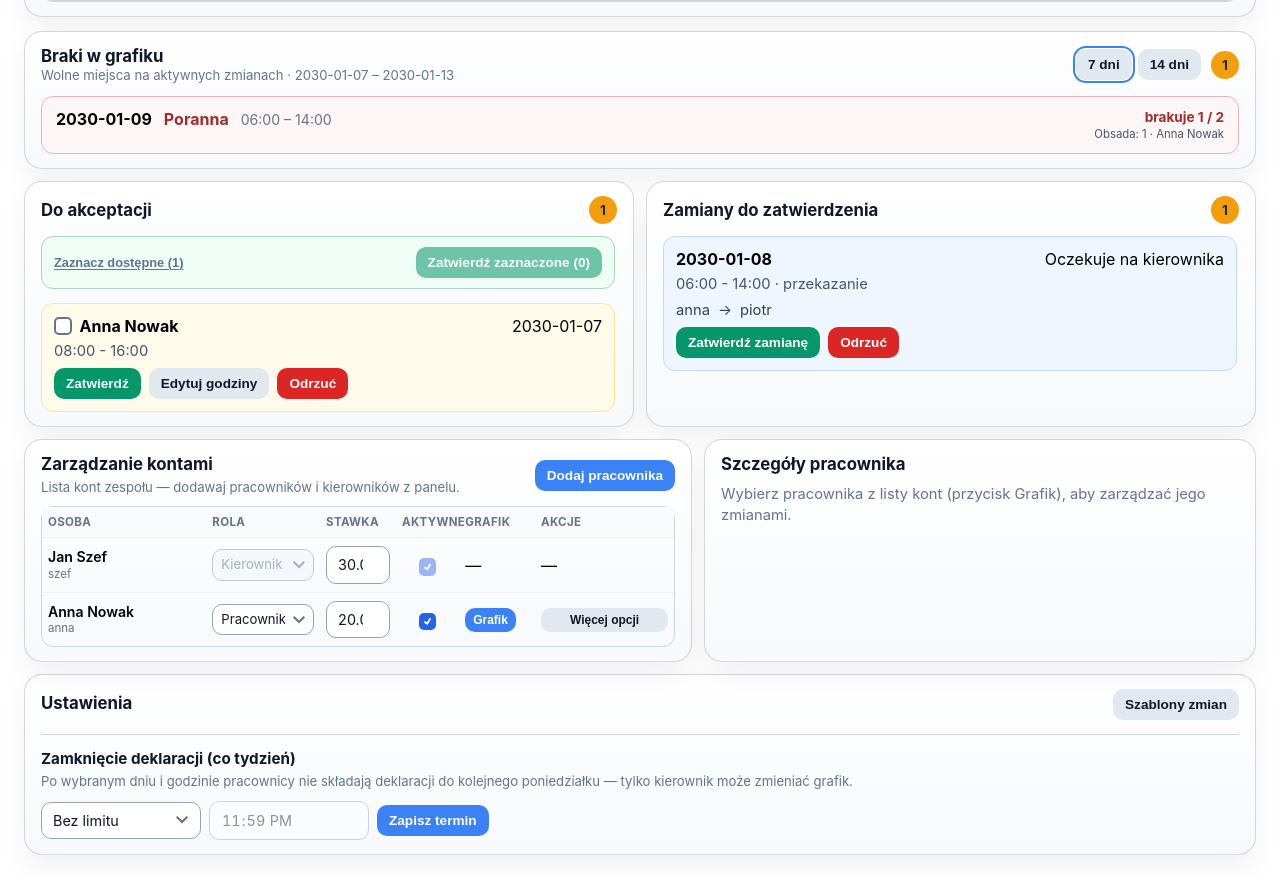
settings: deadline and shift templates › creating a shift template
(page scrolled)
Expected: the text "Anna Nowak" below "Do akceptacji" is shown, [80,316,178,336]
Click the button "Szablony zmian" at [1176, 705], box [1113,689,1239,720]
(page scrolled)
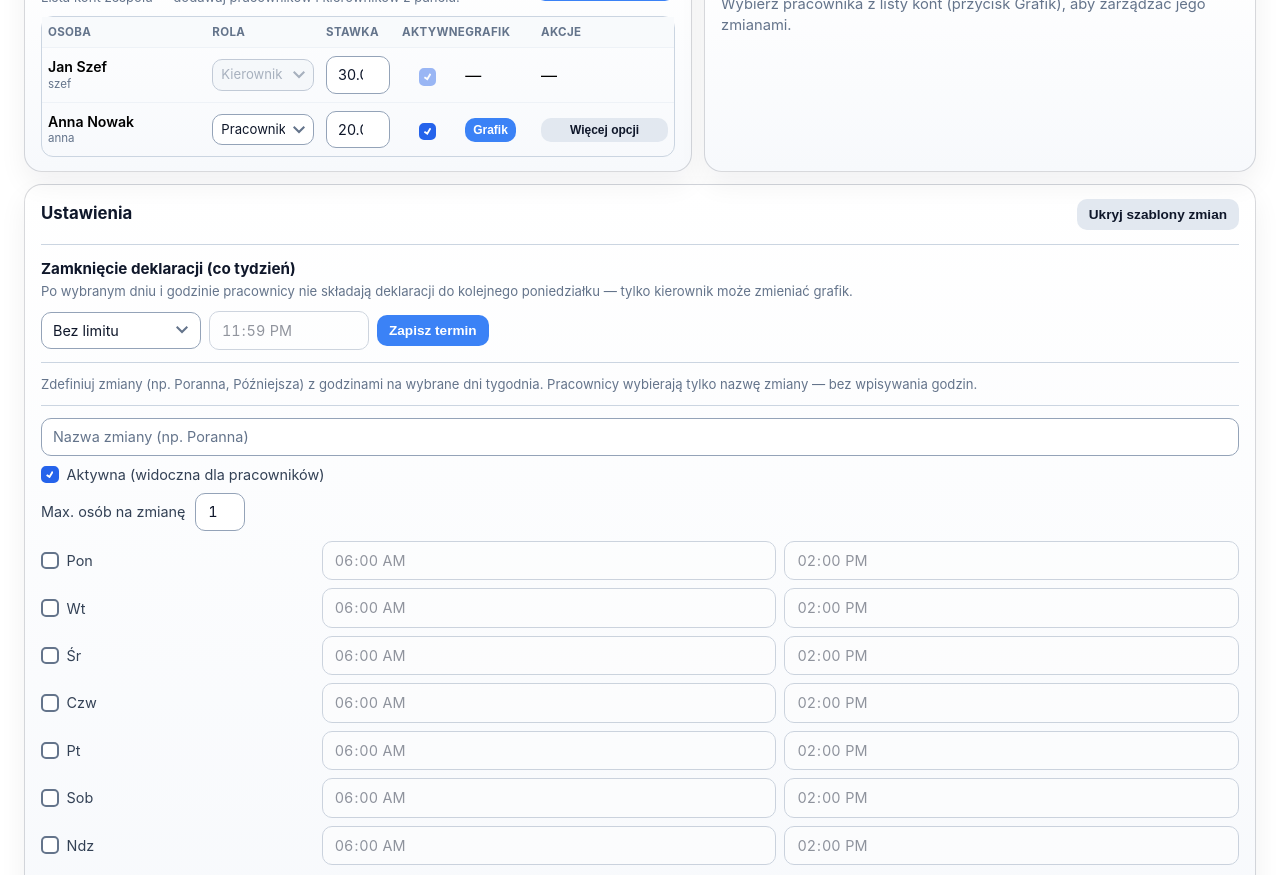
Type " Poranna " into the field with placeholder "Nazwa zmiany (np. Poranna)" at [640, 437], box [41,418,1239,456]
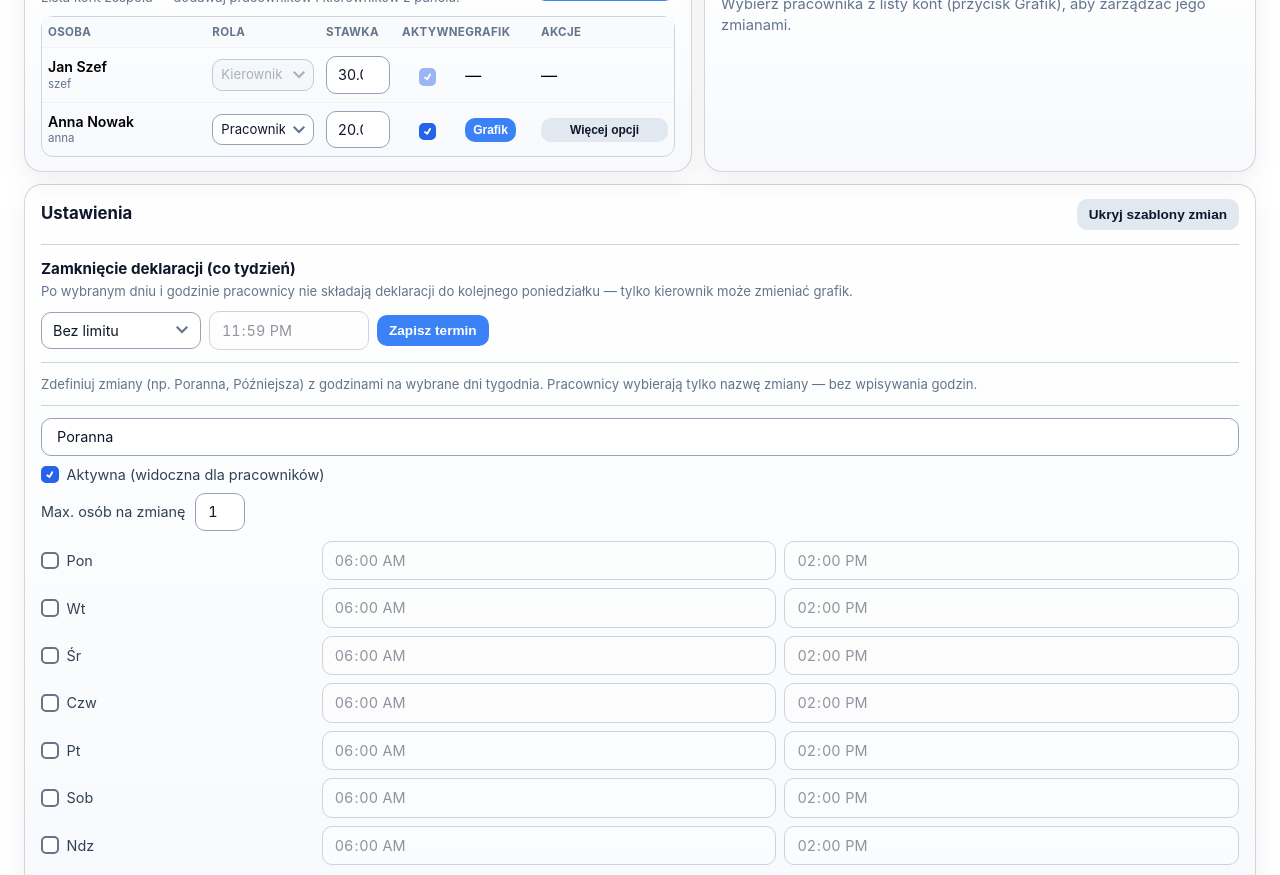
Replace the text in the number field labelled "Max. osób na zmianę" with "2" at [220, 512], box [196,494,245,531]
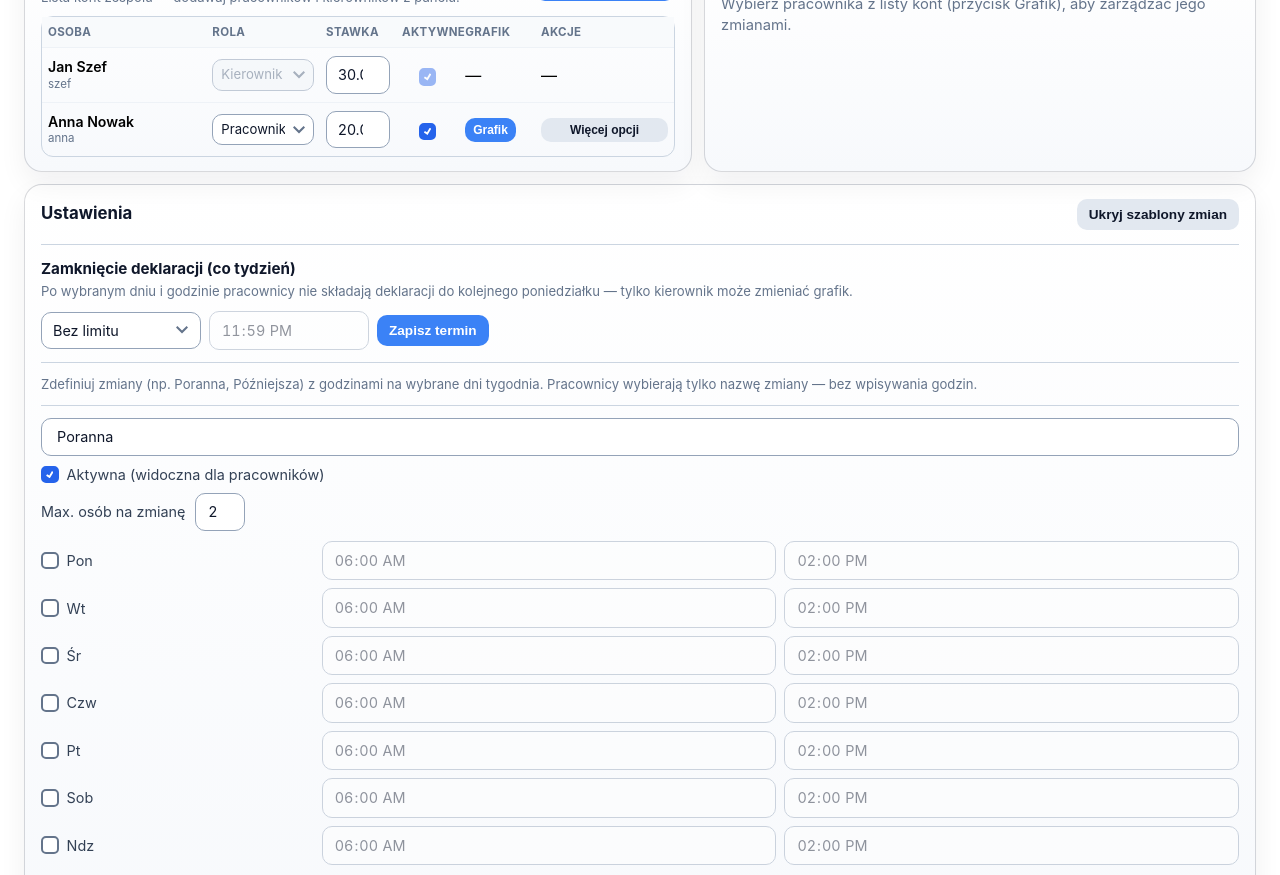
Click the checkbox labelled "Pon" at [50, 561], box [41,552,59,569]
(page scrolled)
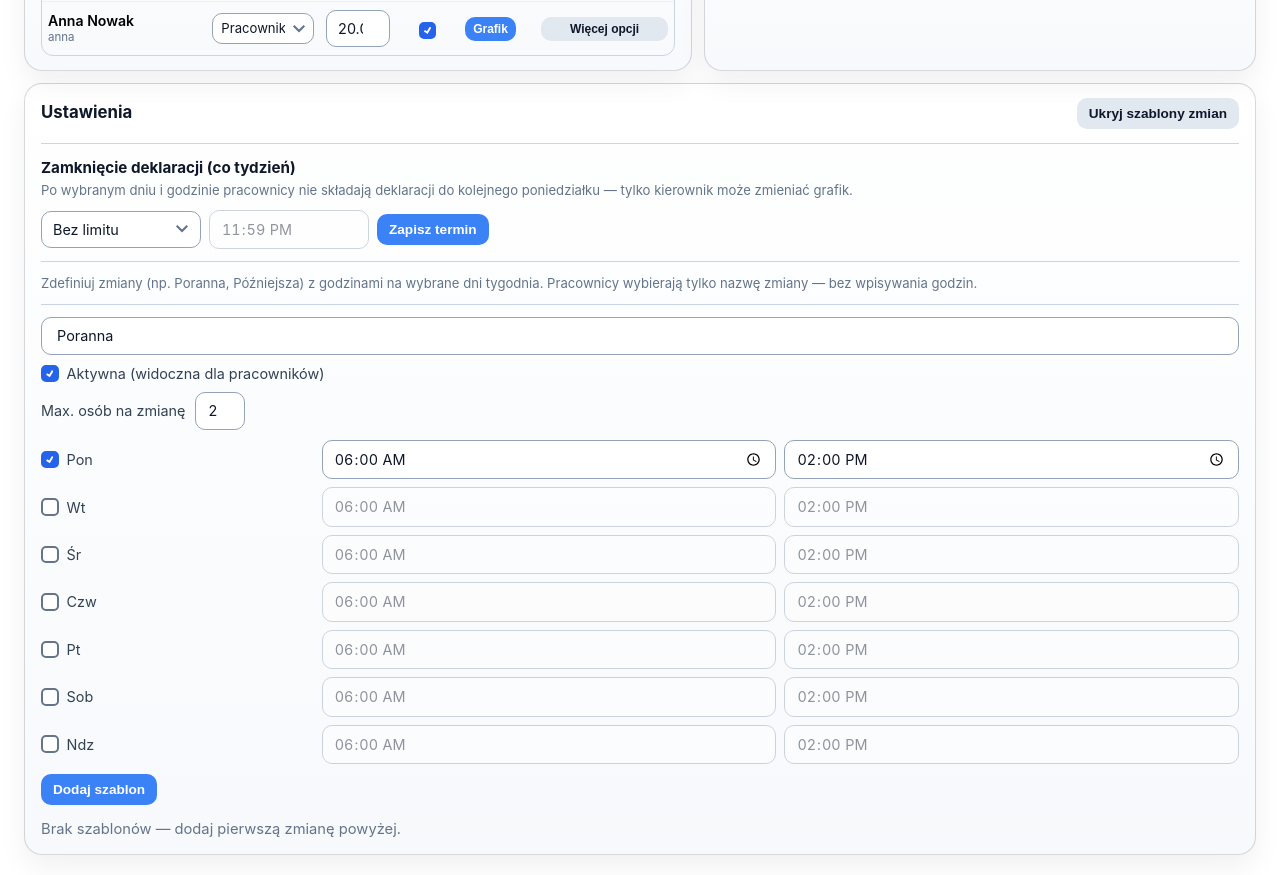
Click the button "Dodaj szablon" at [99, 790], box [41,774,157,805]
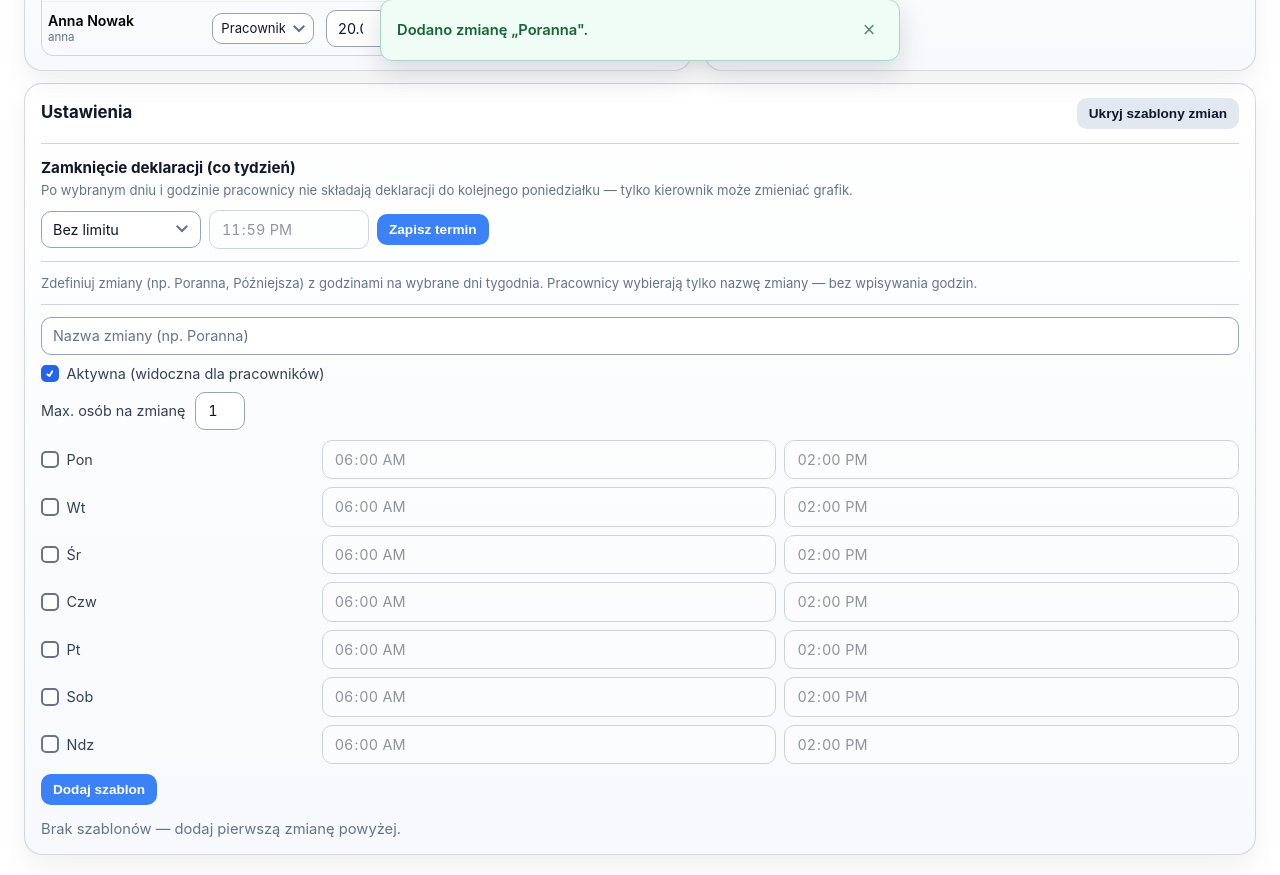
Result: the text "Dodano zmianę „Poranna\"." is shown at [397,21,588,39]
